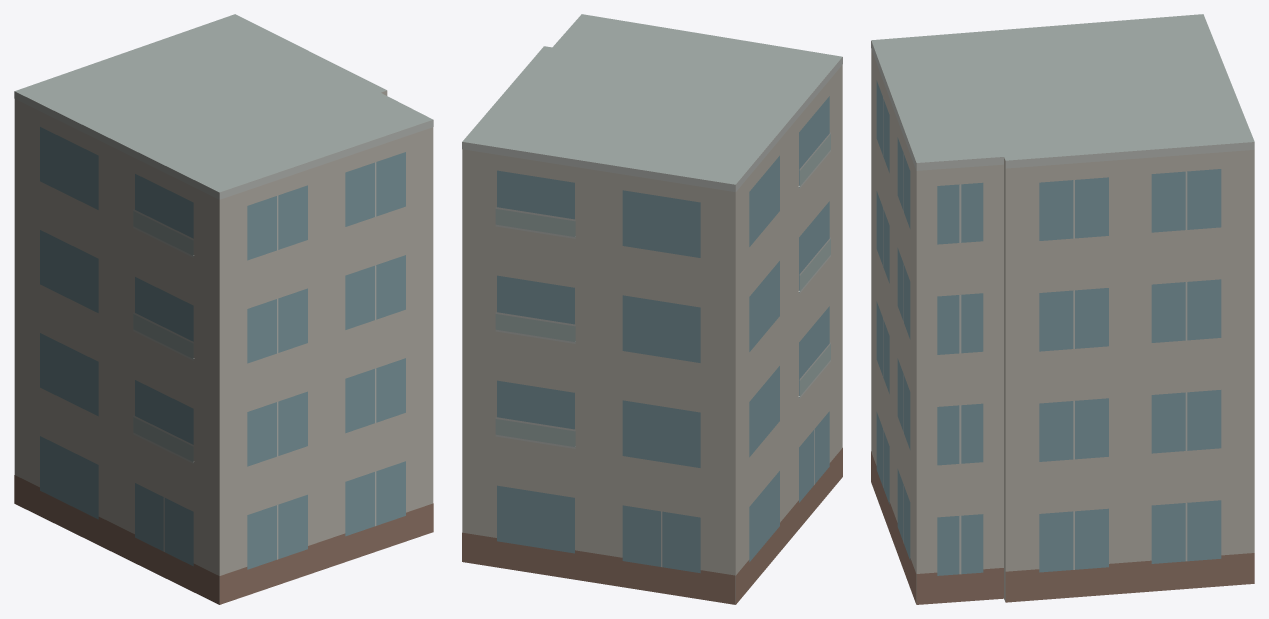
Rendered from survey-upis-32704507.glb.
3 renders of one model, left to right at view 1: azimuth 30°, elevation 25°; view 2: azimuth 150°, elevation 25°; view 3: azimuth 270°, elevation 25°, orthographic. The views are drawn at different scales.
Visible parts, largest first — view 1: survey-upis-32704507.tmp; view 2: survey-upis-32704507.tmp; view 3: survey-upis-32704507.tmp.
Part boxes in pixels (x1,y1,x2,y2): survey-upis-32704507.tmp: (14, 14, 433, 604); survey-upis-32704507.tmp: (462, 14, 842, 604); survey-upis-32704507.tmp: (871, 14, 1254, 604).
Bounding box in the file's own units: 9.92 × 13.7 × 10.79.
